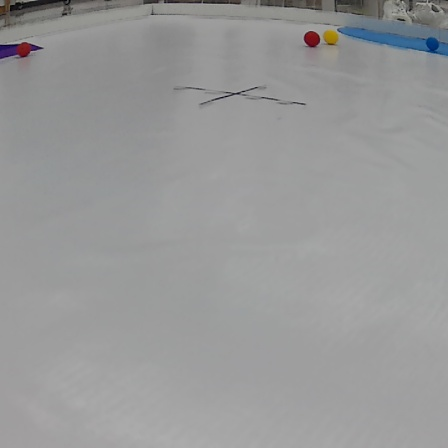blue: (426, 37, 443, 54)
blue_base: (332, 23, 448, 63)
red: (13, 39, 37, 59), (303, 30, 321, 49)
yellow: (325, 29, 339, 48)
